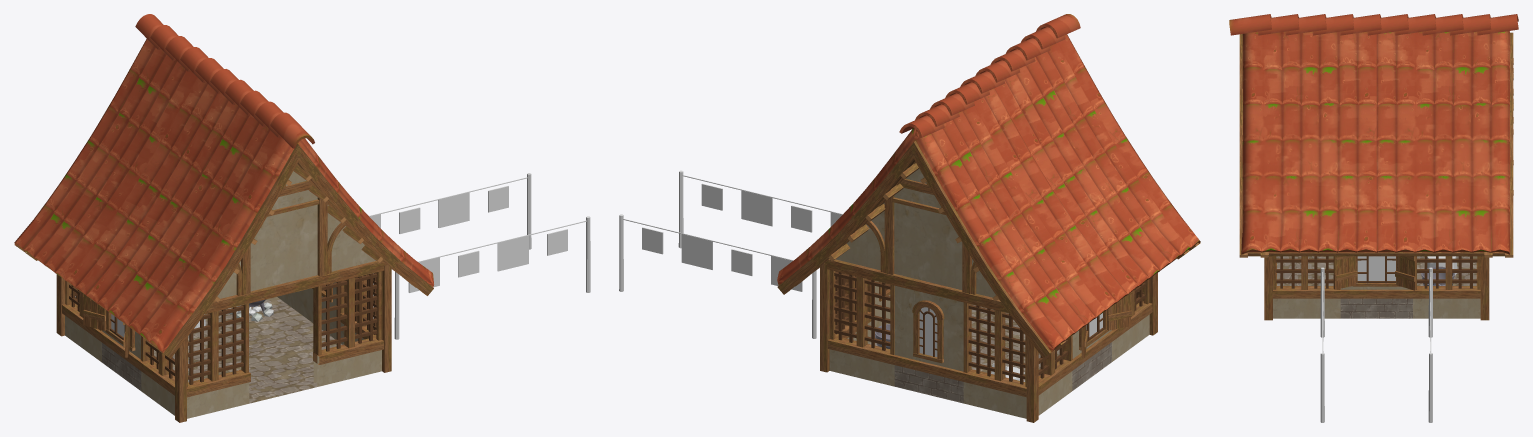
File: fx_washhouse.gltf
3 views of the same model, side by side, from view 1: azimuth 30°, elevation 25°; view 2: azimuth 150°, elevation 25°; view 3: azimuth 270°, elevation 25° (orthographic). The views are drawn at different scales.
Visible parts, largest first — view 1: T1_KitRoofRoundTiles6x6033, T1_KitRoofFrontBrick6034, T1_KitWallPlasterWoodGrid002, T1_KitWallPlasterWoodGrid001, T1_KitFloorUnevenBrick031, T1_KitFloorUnevenBrick027, T1_KitWallPlasterWoodGrid013, T1_KitWallPlasterWoodGrid008, T1_KitWallPlasterWindowWideRound009, T1_KitWallPlasterWoodGrid014, T1_KitFloorUnevenBrick028, T1_KitCornerExteriorWood021 (+7 smaller); view 2: T1_KitRoofRoundTiles6x6033, T1_KitRoofFrontBrick6035, T1_KitWallPlasterWoodGrid003, T1_KitWallPlasterWoodGrid007, T1_KitWallPlasterWindowThinRound004, T1_KitWallPlasterWoodGrid008, T1_KitWallPlasterWindowWideRound009, T1_KitWallPlasterWoodGrid013, T1_KitWindowThinRound1005, T1_KitWallPlasterWoodGrid019, T1_KitCornerExteriorWood023, T1_KitCornerExteriorWood022 (+5 smaller); view 3: T1_KitRoofRoundTiles6x6033, T1_KitWallPlasterWoodGrid019, T1_KitWallPlasterWoodGrid014, T1_KitWallPlasterWindowWideRound015, T1_KitWindowShuttersWideRoundOpen018, T1_WindowGlass017, T1_KitFloorUnevenBrick027, T1_KitCornerExteriorWood022, T1_KitCornerExteriorWood021, T1_KitWindowWideRound1016, T1_KitFloorUnevenBrick029, T1_LinePost053 (+3 smaller).
Boxes of the visible parts, left/top/right/bottom form: T1_KitRoofRoundTiles6x6033: left=14, top=14, right=433, bottom=358; T1_KitRoofFrontBrick6034: left=205, top=165, right=387, bottom=314; T1_KitWallPlasterWoodGrid002: left=313, top=271, right=383, bottom=386; T1_KitWallPlasterWoodGrid001: left=187, top=303, right=250, bottom=418; T1_KitFloorUnevenBrick031: left=239, top=313, right=334, bottom=357; T1_KitFloorUnevenBrick027: left=218, top=357, right=316, bottom=403; T1_KitWallPlasterWoodGrid013: left=138, top=336, right=188, bottom=415; T1_KitWallPlasterWoodGrid008: left=62, top=284, right=101, bottom=362; T1_KitWallPlasterWindowWideRound009: left=99, top=330, right=141, bottom=390; T1_KitWallPlasterWoodGrid014: left=340, top=271, right=381, bottom=344; T1_KitFloorUnevenBrick028: left=188, top=328, right=277, bottom=370; T1_KitCornerExteriorWood021: left=382, top=265, right=391, bottom=372; T1_KitRoofRoundTiles6x6033: left=777, top=14, right=1200, bottom=357; T1_KitRoofFrontBrick6035: left=819, top=163, right=1008, bottom=313; T1_KitWallPlasterWoodGrid003: left=827, top=269, right=894, bottom=386; T1_KitWallPlasterWoodGrid007: left=962, top=302, right=1026, bottom=418; T1_KitWallPlasterWindowThinRound004: left=893, top=285, right=963, bottom=403; T1_KitWallPlasterWoodGrid008: left=1025, top=335, right=1075, bottom=415; T1_KitWallPlasterWindowWideRound009: left=1072, top=330, right=1115, bottom=390; T1_KitWallPlasterWoodGrid013: left=1112, top=283, right=1152, bottom=361; T1_KitWindowThinRound1005: left=912, top=300, right=944, bottom=363; T1_KitWallPlasterWoodGrid019: left=830, top=270, right=871, bottom=343; T1_KitCornerExteriorWood023: left=1026, top=337, right=1038, bottom=422; T1_KitCornerExteriorWood022: left=820, top=263, right=829, bottom=372; T1_KitRoofRoundTiles6x6033: left=1229, top=14, right=1518, bottom=257; T1_KitWallPlasterWoodGrid019: left=1413, top=256, right=1480, bottom=318; T1_KitWallPlasterWoodGrid014: left=1273, top=256, right=1340, bottom=318; T1_KitWallPlasterWindowWideRound015: left=1340, top=286, right=1412, bottom=318; T1_KitWindowShuttersWideRoundOpen018: left=1333, top=256, right=1416, bottom=290; T1_WindowGlass017: left=1357, top=256, right=1395, bottom=280; T1_KitFloorUnevenBrick027: left=1276, top=257, right=1333, bottom=285; T1_KitCornerExteriorWood022: left=1480, top=256, right=1489, bottom=320; T1_KitCornerExteriorWood021: left=1264, top=256, right=1272, bottom=320; T1_KitWindowWideRound1016: left=1352, top=256, right=1399, bottom=286; T1_KitFloorUnevenBrick029: left=1417, top=257, right=1477, bottom=285; T1_LinePost053: left=1320, top=267, right=1324, bottom=337.
Size of the model in its own units: 13.98 by 7.95 by 8.03.
20 materials, 20 textured.
